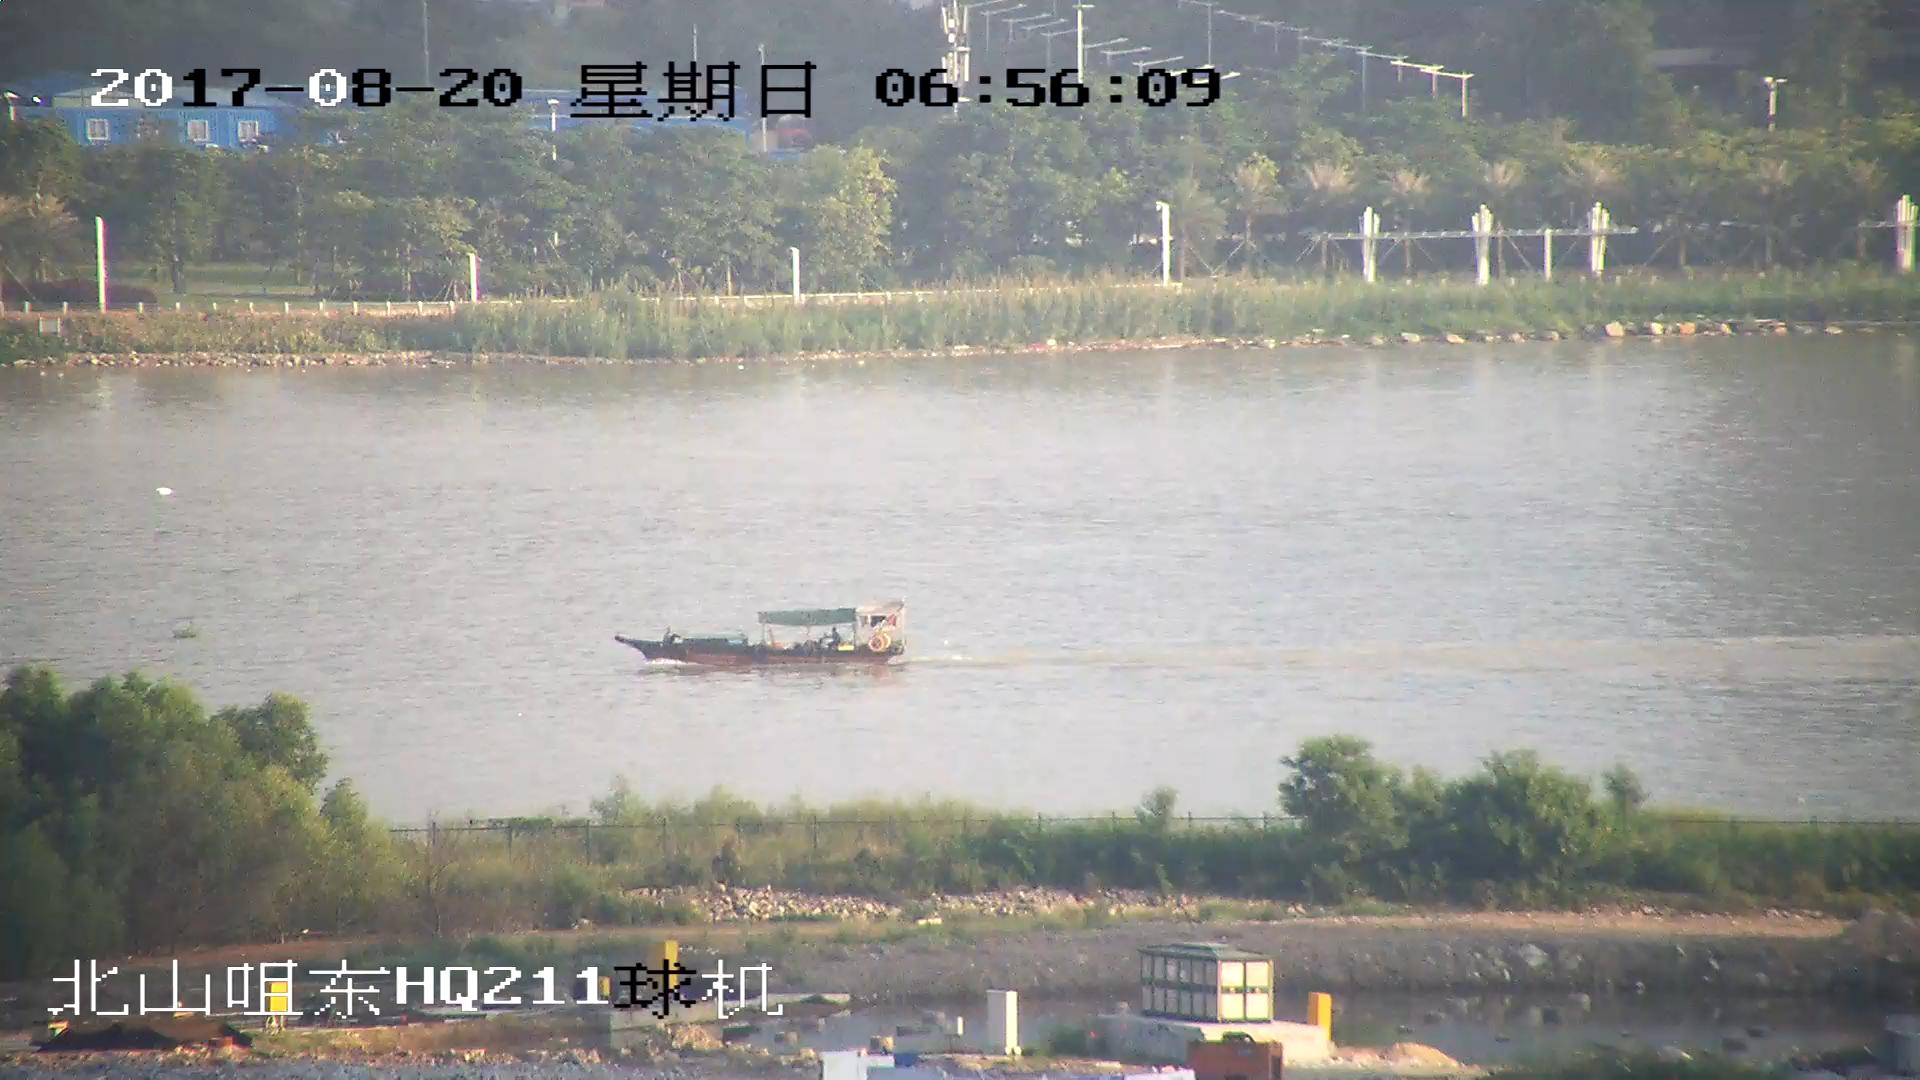fishing boat: (619, 604, 907, 670)
